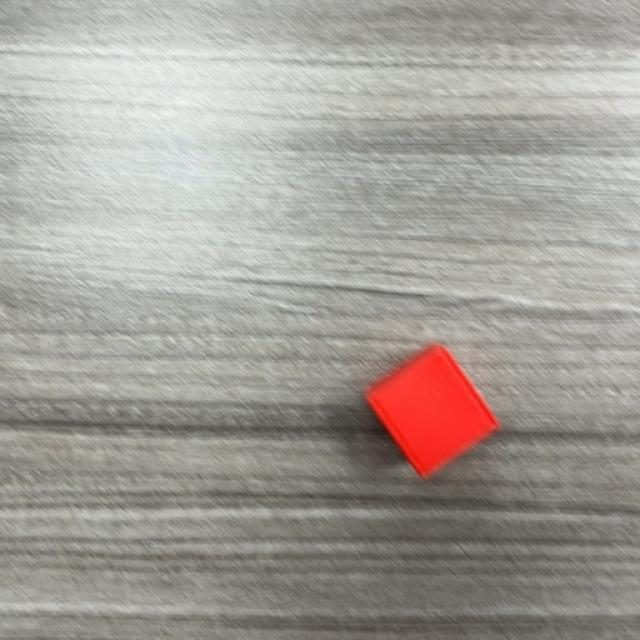Rojo: (362, 345, 501, 480)
